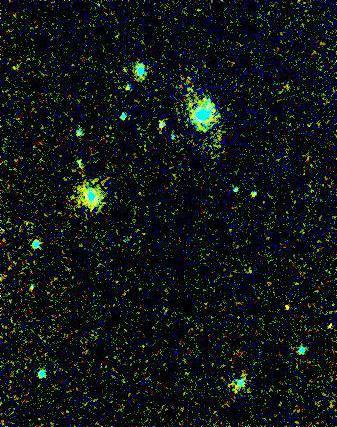star: (269, 293, 299, 323)
